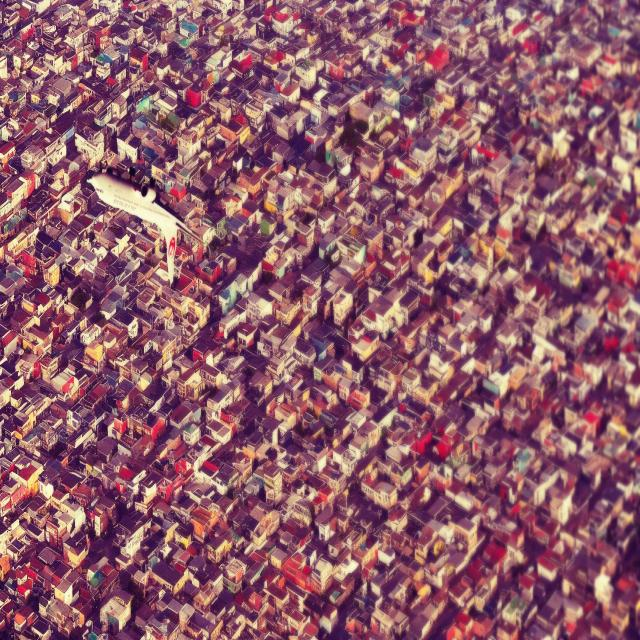airplane: (86, 168, 202, 287)
